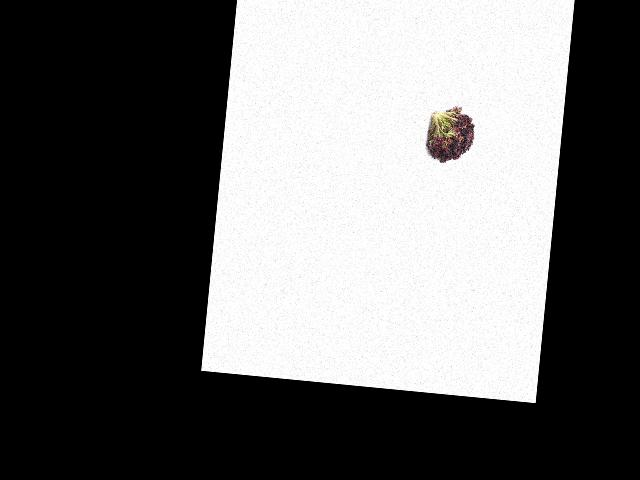lettuce: (421, 106, 478, 168)
